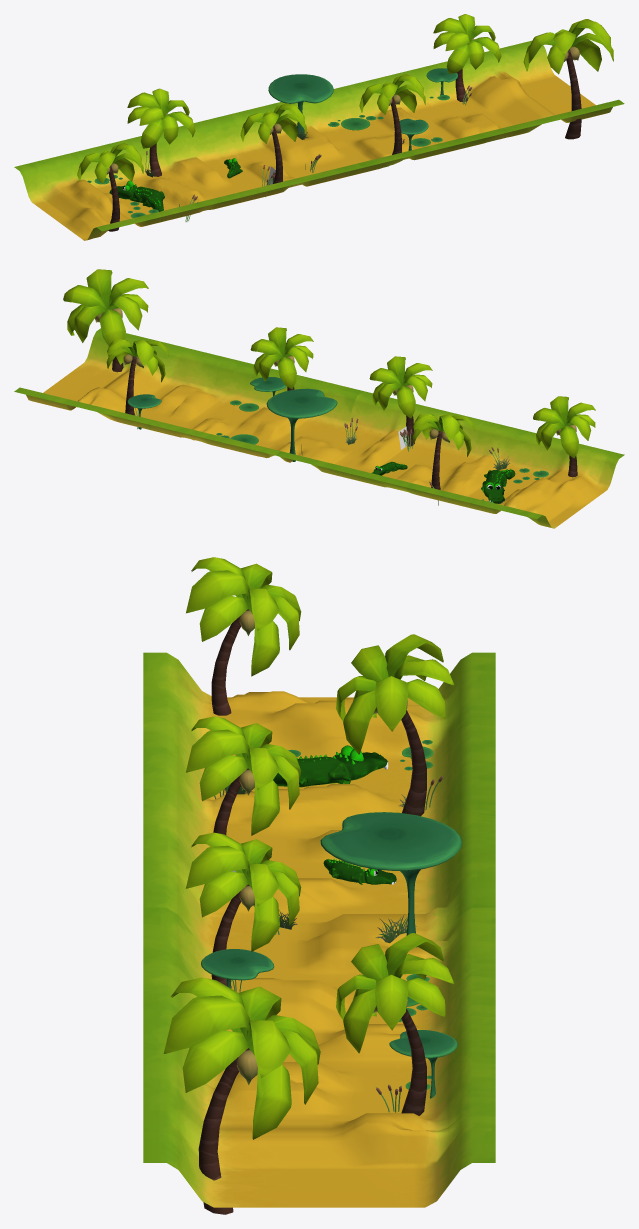
Rendered from River.fbx.
3 views of the same model, one above another, from view 1: azimuth 30°, elevation 25°; view 2: azimuth 150°, elevation 25°; view 3: azimuth 270°, elevation 25° (orthographic). The views are drawn at different scales.
Visible parts, largest first — view 1: pPlane2, polySurface275, polySurface727, polySurface729, polySurface726, polySurface723, polySurface725, pCylinder20, eyes1, pCylinder28, pCylinder45; view 2: pPlane2, polySurface275, polySurface725, polySurface726, polySurface723, pCylinder20, polySurface727, polySurface729, eyes1, pCylinder28, pCylinder45; view 3: pPlane2, polySurface275, polySurface729, polySurface727, polySurface726, polySurface723, polySurface725, pCylinder20, eyes1, pCylinder28, pCylinder45, eyes2.
Part boxes in pixels (x1,y1,x2,y2): pPlane2: (14,40,624,240); polySurface275: (523,19,613,139); polySurface727: (127,88,195,176); polySurface729: (433,14,501,102); polySurface726: (77,143,143,231); polySurface723: (359,74,425,154); polySurface725: (240,103,306,183); pCylinder20: (268,74,333,136); eyes1: (109,180,164,211); pCylinder28: (399,118,428,150); pCylinder45: (426,68,457,95); pPlane2: (14,328,624,528); polySurface275: (63,269,148,372); polySurface725: (369,356,432,446); polySurface726: (533,396,595,477); polySurface723: (250,327,313,390); pCylinder20: (266,388,337,461); polySurface727: (412,414,475,489); polySurface729: (106,339,169,415); eyes1: (481,469,515,503); pCylinder28: (250,377,286,395); pCylinder45: (127,394,161,429); pPlane2: (143,652,495,1207); polySurface275: (163,977,320,1214); polySurface729: (336,933,454,1115); polySurface727: (336,634,454,816); polySurface726: (186,557,301,715); polySurface723: (186,832,301,987); polySurface725: (186,716,301,835); pCylinder20: (320,812,462,947); eyes1: (273,745,388,787); pCylinder28: (201,949,274,988); pCylinder45: (389,1030,457,1098); eyes2: (323,858,396,884).
Bounding box in the file's own units: 407 × 82.34 × 117.
